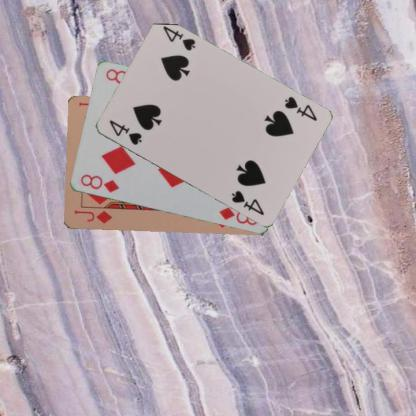4s: (106, 117, 143, 147), (282, 94, 318, 122)
8d: (78, 172, 120, 194)
Jd: (72, 208, 112, 225)
